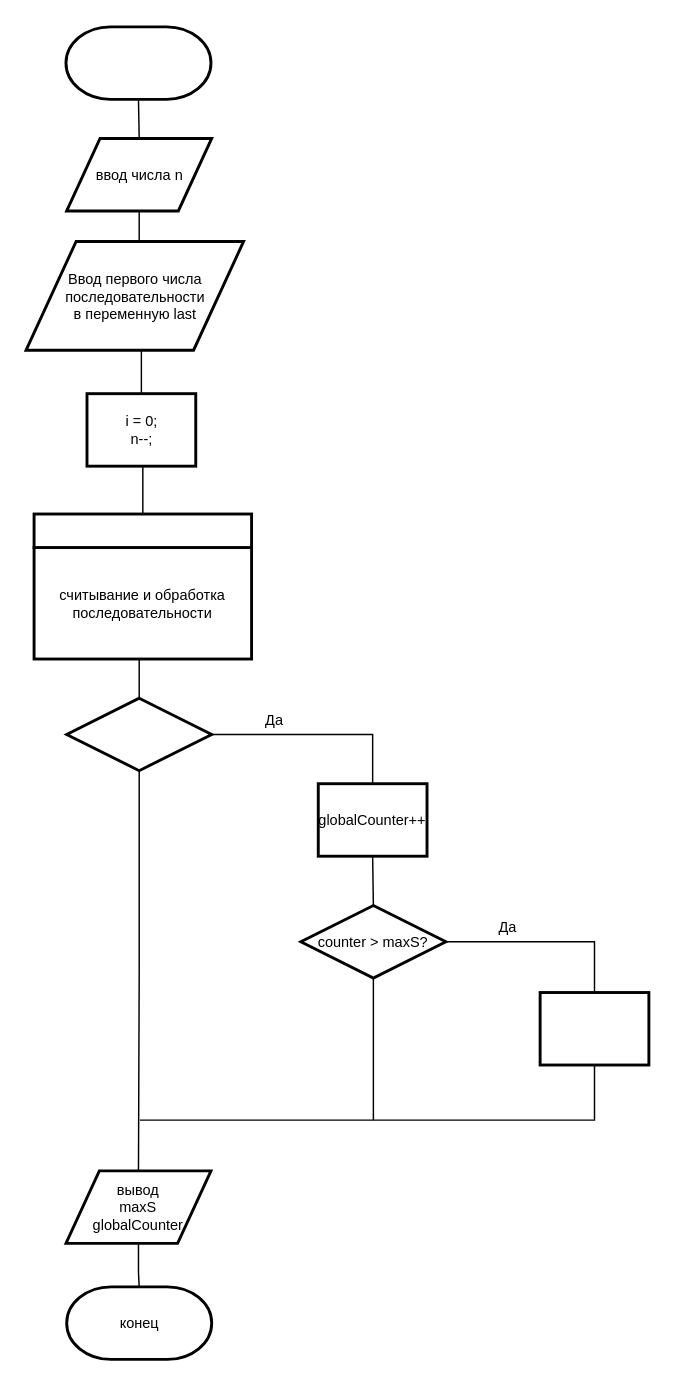
This 676x1385 diagram has some shape labels left out. Here are the shapes that lost their labels. From the top down, the box of each, then its label:
(64, 25, 212, 100): начало
(32, 512, 252, 548): A1
(65, 696, 212, 771): counter > 1?
(538, 990, 650, 1066): maxS = counter
